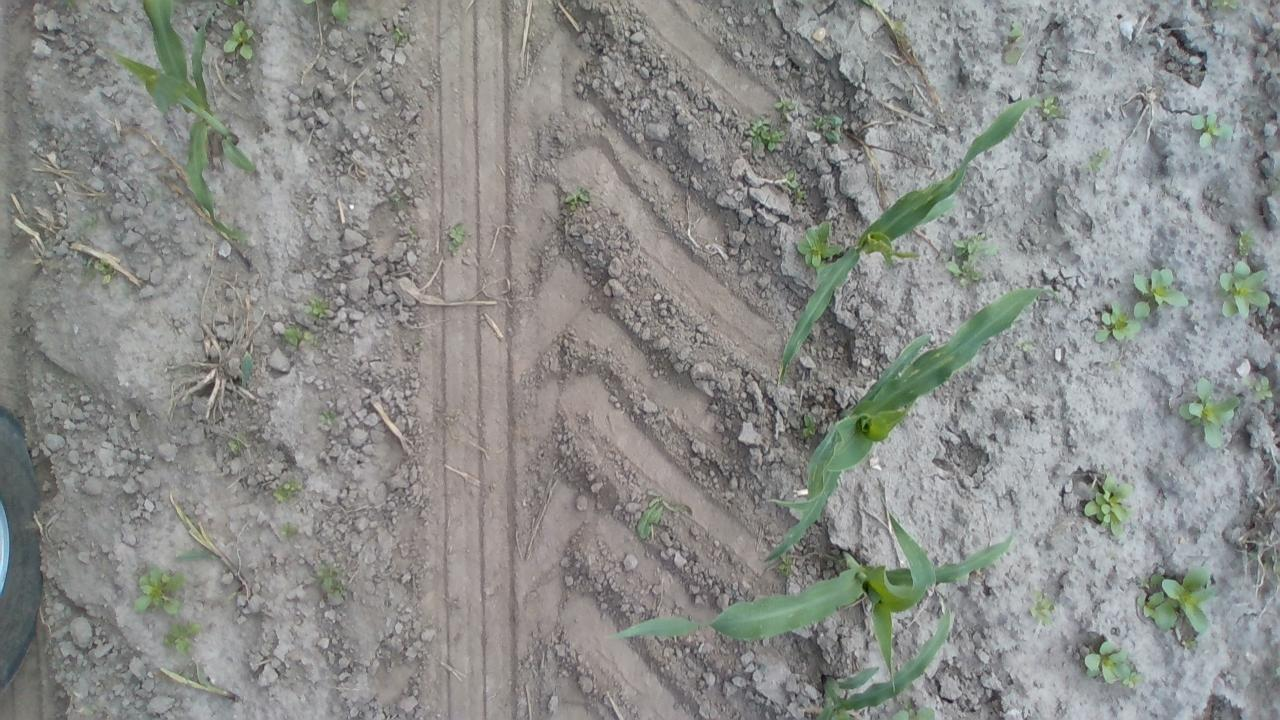Maize: (761, 289, 1058, 569), (778, 93, 1038, 381), (612, 506, 1019, 676), (106, 1, 254, 247), (816, 606, 954, 716)
Weeds: (1138, 561, 1218, 649), (1181, 368, 1239, 452), (1216, 258, 1280, 326), (1128, 262, 1195, 324), (1080, 637, 1150, 691), (132, 564, 188, 618), (1081, 472, 1130, 532), (798, 216, 842, 274), (948, 232, 996, 284), (1186, 106, 1240, 152), (310, 554, 356, 605), (1091, 302, 1143, 346), (1024, 586, 1067, 628), (746, 112, 786, 155), (168, 618, 208, 656), (220, 24, 260, 60), (814, 108, 848, 149), (996, 19, 1024, 68), (779, 167, 810, 208), (1234, 218, 1260, 264), (298, 297, 339, 326), (318, 403, 350, 437), (1250, 372, 1277, 412), (445, 220, 469, 260), (270, 476, 308, 501), (562, 184, 598, 208), (276, 326, 312, 350), (322, 4, 354, 26), (1038, 94, 1062, 123), (774, 100, 802, 124), (800, 411, 816, 438)
